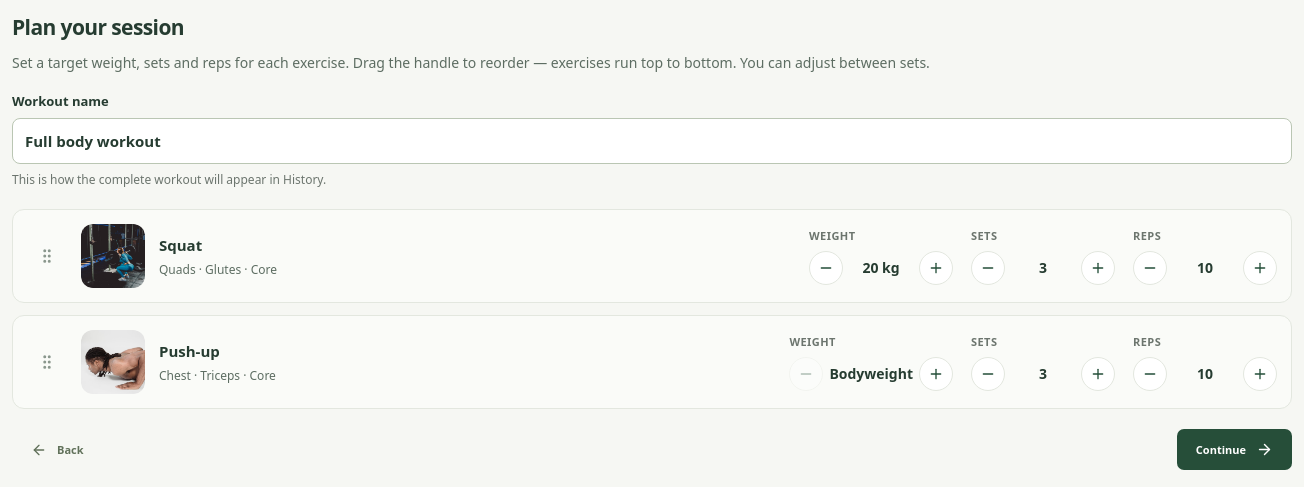
Test case: weight, sets and reps steppers update the store
Click the button named "Increase Weight" next to "20 kg" at coordinates (936, 268), box top-left (919, 251), bottom-right (953, 285)
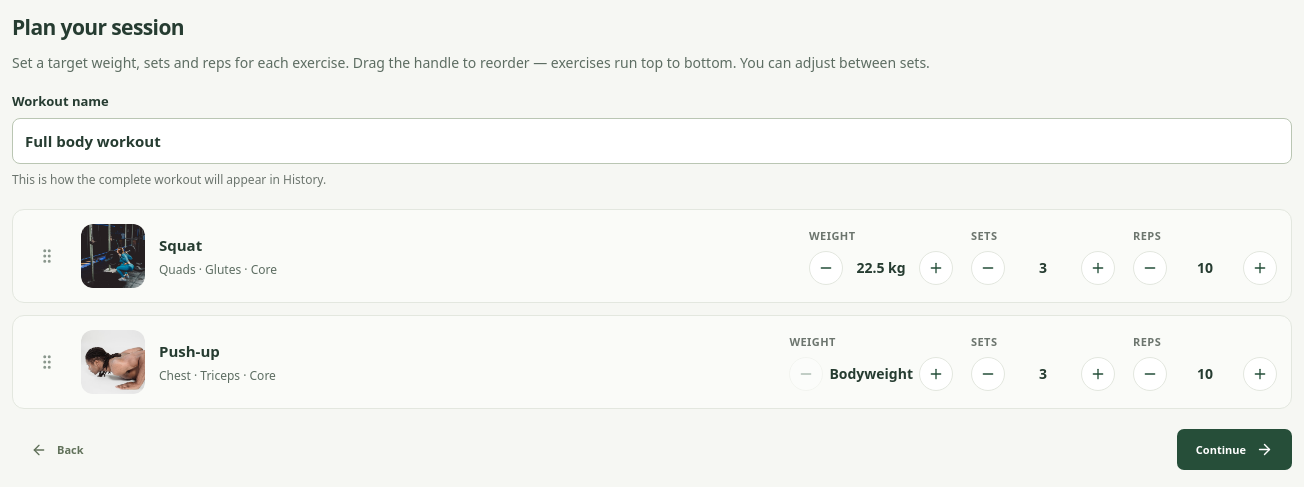
Click the button named "Decrease Weight" next to "22.5 kg" at coordinates (826, 268), box top-left (809, 251), bottom-right (843, 285)
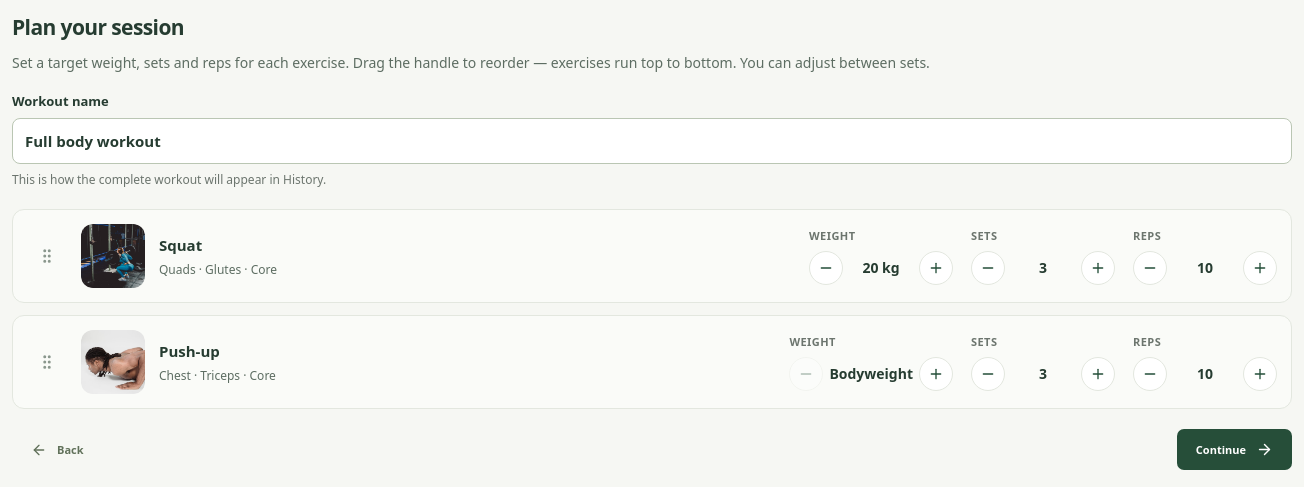
Click the button named "Increase Sets" in the row of "20 kg" at coordinates (1098, 268), box top-left (1081, 251), bottom-right (1115, 285)
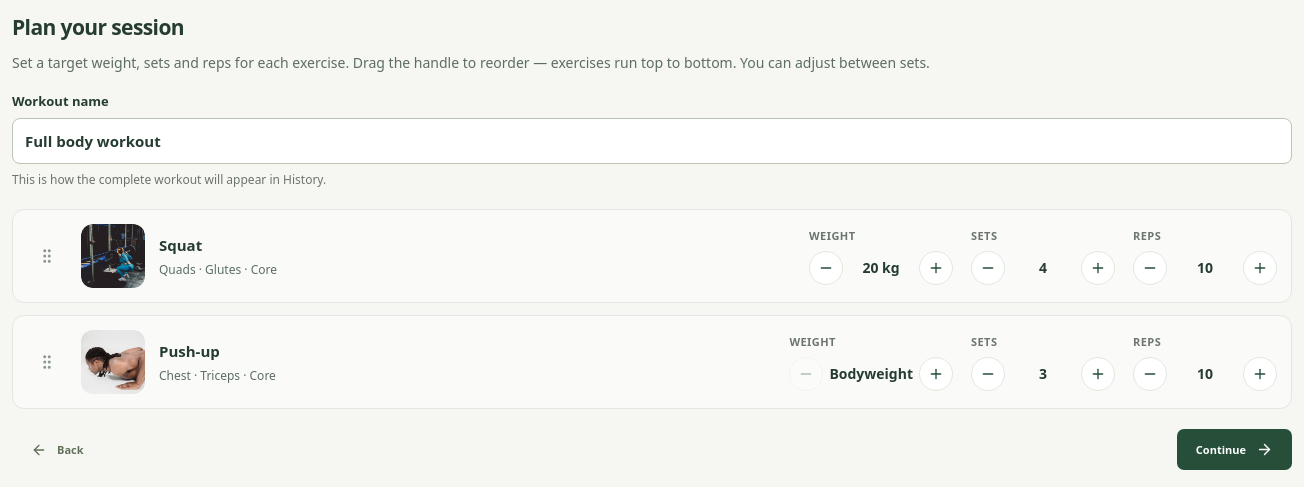
Click the button named "Increase Sets" in the row of "20 kg" at coordinates (1098, 268), box top-left (1081, 251), bottom-right (1115, 285)
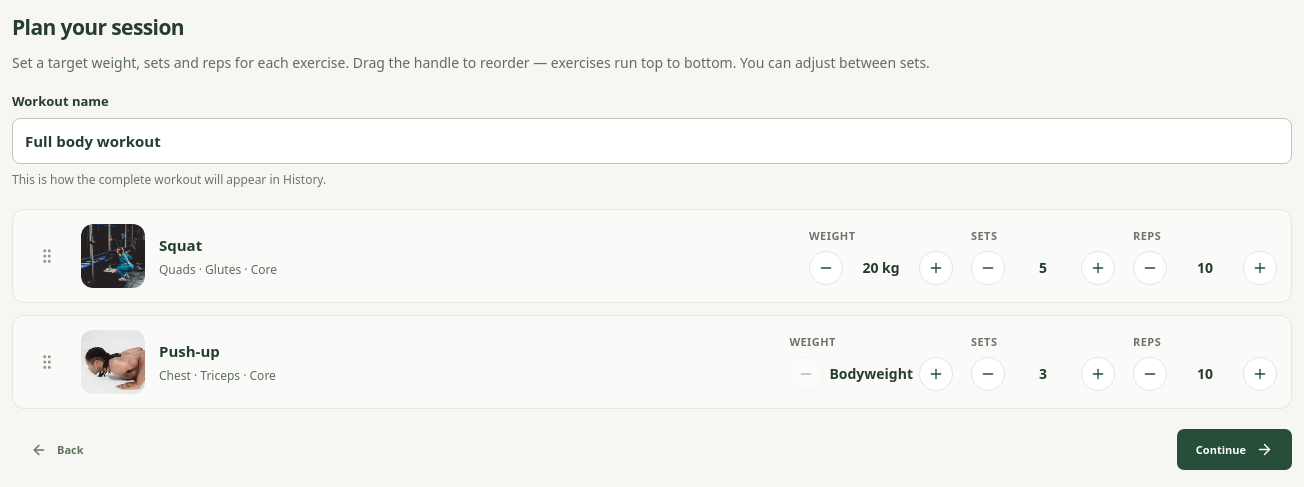
Click the button named "Increase Reps" in the row of "20 kg" at coordinates (1260, 268), box top-left (1243, 251), bottom-right (1277, 285)
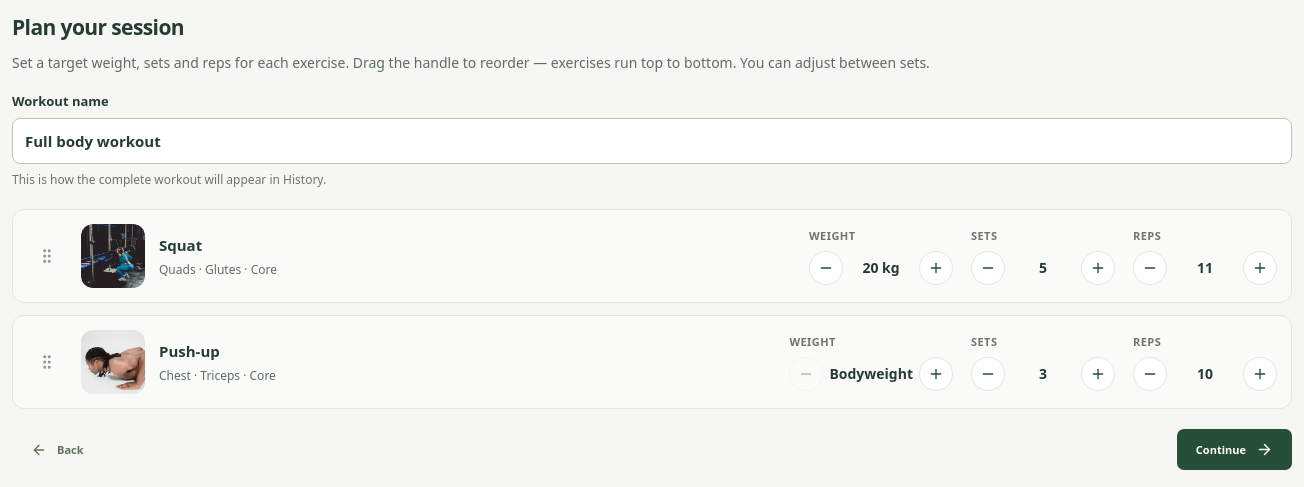
Click the button named "Increase Reps" next to "11" at coordinates (1260, 268), box top-left (1243, 251), bottom-right (1277, 285)
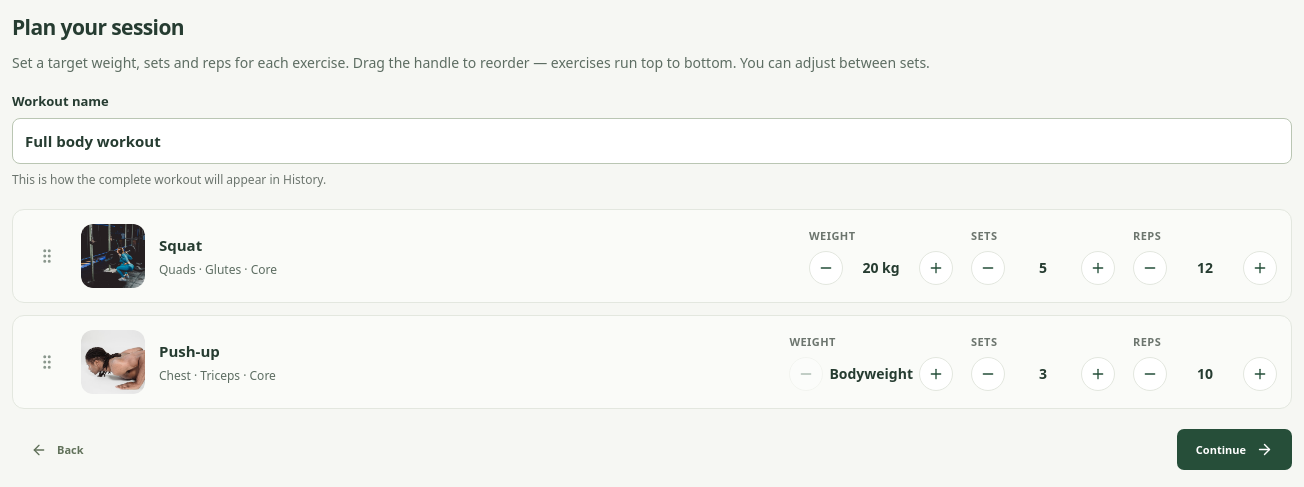
Check: the text named "Reps: 12 reps" is shown, box top-left (1197, 258), bottom-right (1213, 277)
